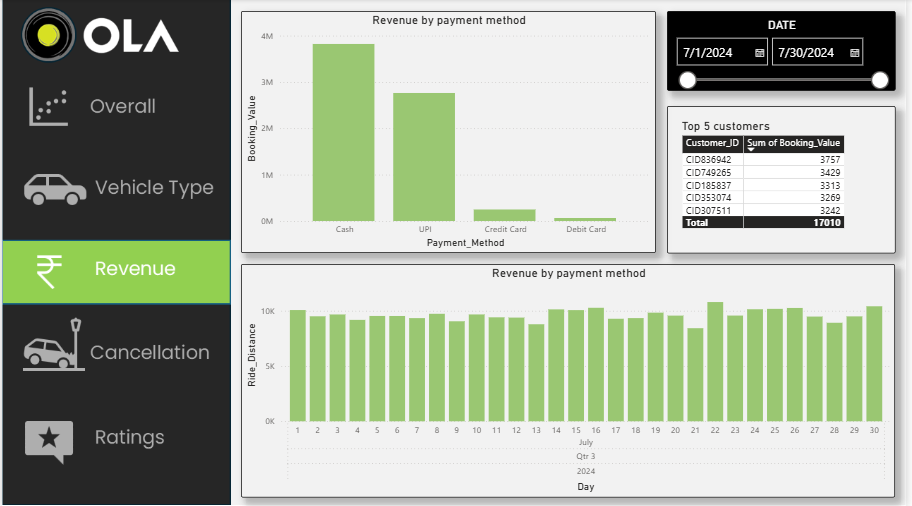

Layout of this report page (visuals, bound fields, positions):
{"tool":"powerbi","page":{"name":"Revenue","canvas":[1280,720],"ordinal":2},"visuals":[{"type":"actionButton","box":[0,222.5,324.6,90.7],"z":0},{"type":"actionButton","box":[0,446.5,324.6,90.7],"z":1000},{"type":"actionButton","box":[0,579.7,324.6,90.7],"z":2000},{"type":"actionButton","box":[0,106.3,324.6,90.7],"z":3000},{"type":"columnChart","title":"Revenue by payment method","fields":{"Y":["Sum(July.Booking_Value)"],"Category":["July.Payment_Method"]},"box":[339.3,16.8,587.9,342.7],"z":4000},{"type":"columnChart","title":"Revenue by payment method","fields":{"Y":["Sum(July.Ride_Distance)"],"Category":["July.Date.Variation.Date Hierarchy.Year","July.Date.Variation.Date Hierarchy.Quarter","July.Date.Variation.Date Hierarchy.Month","July.Date.Variation.Date Hierarchy.Day"]},"box":[339.3,376.3,927.2,330.9],"z":5000},{"type":"slicer","title":"DATE","fields":{"Values":["July.Date"]},"box":[942.4,16.8,324.2,112.5],"z":6000},{"type":"tableEx","title":"Top 5 customers","fields":{"Values":["July.Customer_ID","Sum(July.Booking_Value)"]},"box":[943,151.4,324.3,208.6],"z":7000}]}

Visuals, with their boxes in screenshot pixels (x1, y1, x2, y2), scaled from the page's 1280x720 canvas onto the 912x506 screenshot:
actionButton: [x1=0, y1=156, x2=231, y2=220]
actionButton: [x1=0, y1=314, x2=231, y2=378]
actionButton: [x1=0, y1=407, x2=231, y2=471]
actionButton: [x1=0, y1=75, x2=231, y2=138]
"Revenue by payment method" columnChart: [x1=242, y1=12, x2=661, y2=253]
"Revenue by payment method" columnChart: [x1=242, y1=264, x2=902, y2=497]
"DATE" slicer: [x1=671, y1=12, x2=902, y2=91]
"Top 5 customers" tableEx: [x1=672, y1=106, x2=903, y2=253]
